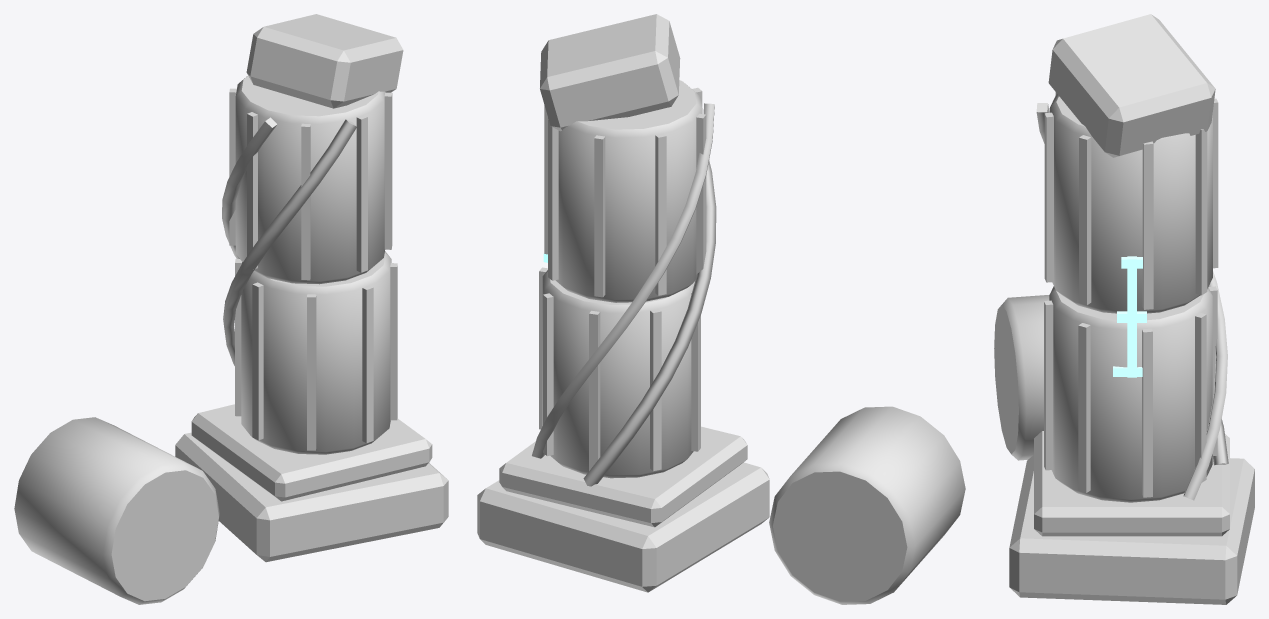
The model's file is RuinPillar.fbx.
3 renders of one model, left to right at view 1: azimuth 30°, elevation 25°; view 2: azimuth 150°, elevation 25°; view 3: azimuth 270°, elevation 25°, orthographic. The views are drawn at different scales.
Visible parts, largest first — view 1: RuinPillar__stone_ruin, RuinPillar__stone_moss, RuinPillar__stone_dk, RuinPillar__leaf_dk; view 2: RuinPillar__stone_ruin, RuinPillar__stone_moss, RuinPillar__stone_dk, RuinPillar__leaf_dk; view 3: RuinPillar__stone_ruin, RuinPillar__stone_moss, RuinPillar__stone_dk, RuinPillar__leaf_dk, RuinPillar__stone_rune.
Part boxes in pixels (bbox=[...]): RuinPillar__stone_ruin: bbox=[175, 14, 448, 562]; RuinPillar__stone_moss: bbox=[14, 251, 391, 604]; RuinPillar__stone_dk: bbox=[229, 88, 397, 450]; RuinPillar__leaf_dk: bbox=[222, 117, 356, 365]; RuinPillar__stone_ruin: bbox=[477, 14, 769, 592]; RuinPillar__stone_moss: bbox=[542, 270, 965, 604]; RuinPillar__stone_dk: bbox=[539, 87, 706, 471]; RuinPillar__leaf_dk: bbox=[532, 103, 716, 486]; RuinPillar__stone_ruin: bbox=[1009, 14, 1254, 604]; RuinPillar__stone_moss: bbox=[994, 286, 1212, 502]; RuinPillar__stone_dk: bbox=[1044, 92, 1218, 497]; RuinPillar__leaf_dk: bbox=[1036, 103, 1228, 500]; RuinPillar__stone_rune: bbox=[1113, 256, 1146, 377].
Bounding box in the file's own units: 8.89 × 10.67 × 4.79.
